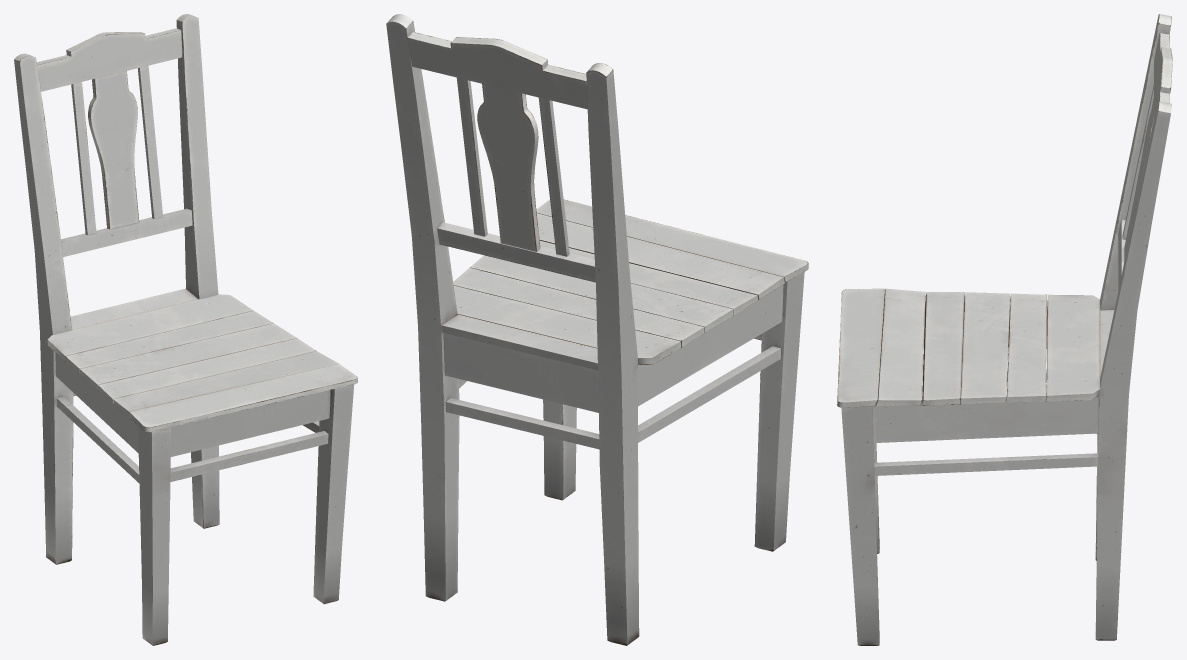
Rendered from dining-chair-painted.glb.
The picture shows the model from 3 angles, left to right: view 1: azimuth 30°, elevation 25°; view 2: azimuth 150°, elevation 25°; view 3: azimuth 270°, elevation 25°; orthographic projection. The views are drawn at different scales.
Visible parts, largest first — view 1: painted_wooden_chair_01; view 2: painted_wooden_chair_01; view 3: painted_wooden_chair_01.
Part boxes in pixels (box(x1,y1,x2,y2)): painted_wooden_chair_01: box(14, 14, 357, 645); painted_wooden_chair_01: box(386, 14, 808, 645); painted_wooden_chair_01: box(837, 14, 1172, 645).
Bounding box in the file's own units: 0.432 × 0.956 × 0.54.
1 material, 1 textured.
